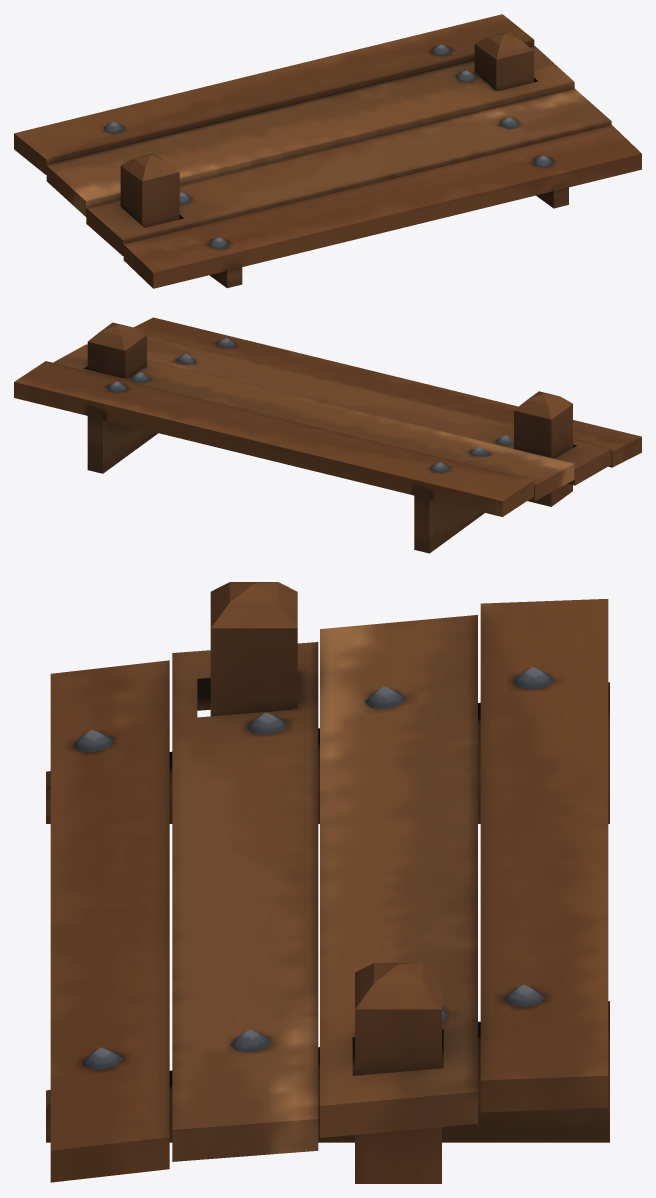
The model's file is 1PAr_Bois-Descente.FBX.
3 views of the same model, one above another, from view 1: azimuth 30°, elevation 25°; view 2: azimuth 150°, elevation 25°; view 3: azimuth 270°, elevation 25° (orthographic). The views are drawn at different scales.
Parts seen in each view (by area): view 1: 1PAr_Bois-Descente; view 2: 1PAr_Bois-Descente; view 3: 1PAr_Bois-Descente.
Part boxes in pixels (x1,y1,x2,y2): 1PAr_Bois-Descente: [14, 14, 641, 288]; 1PAr_Bois-Descente: [14, 317, 641, 553]; 1PAr_Bois-Descente: [46, 582, 609, 1183].
Bounding box in the file's own units: 8 × 1.57 × 4.
